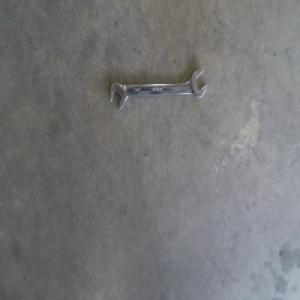Wrench: (106, 70, 209, 114)
